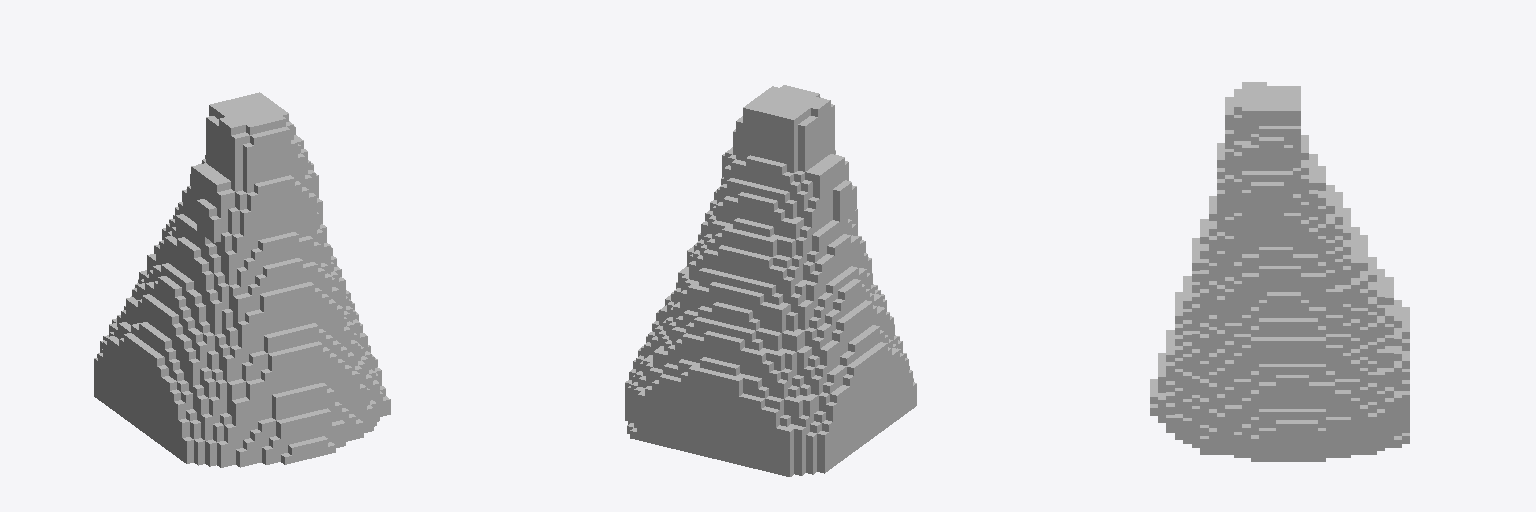
The model's file is body.obj.
The picture shows the model from 3 angles: view 1: azimuth 30°, elevation 25°; view 2: azimuth 150°, elevation 25°; view 3: azimuth 270°, elevation 25°; orthographic projection.
Bounding box in the file's own units: 30 × 40 × 31.